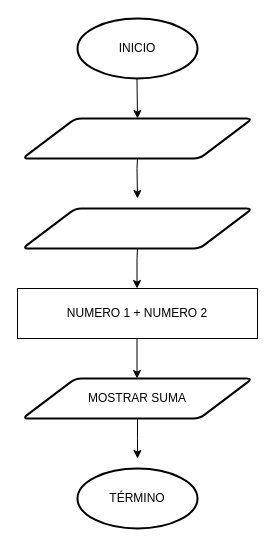
The diagram is 275 pixels wide and 546 high, and some of its shapes have lost their labels. The shapes that lost their labels are listed below. From the top down, each one's box as (x1, y1, x2, y2) in pixels, then its label:
(21, 117, 253, 159): LEER NUMERO 1
(21, 207, 253, 249): LEER NUMERO 2
